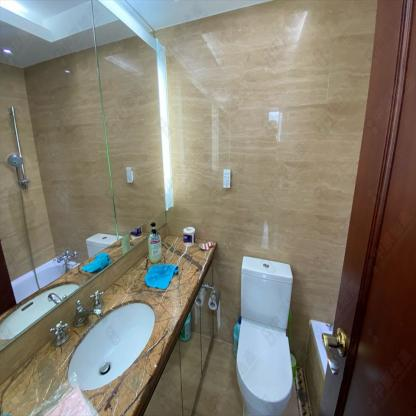Faucet: (50, 290, 107, 335)
Toilet: (233, 257, 295, 415)
Toilet Sink: (69, 300, 155, 392), (1, 283, 79, 338)
